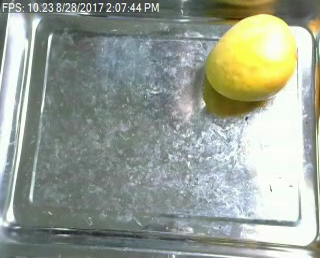Mango: (197, 8, 302, 101)
